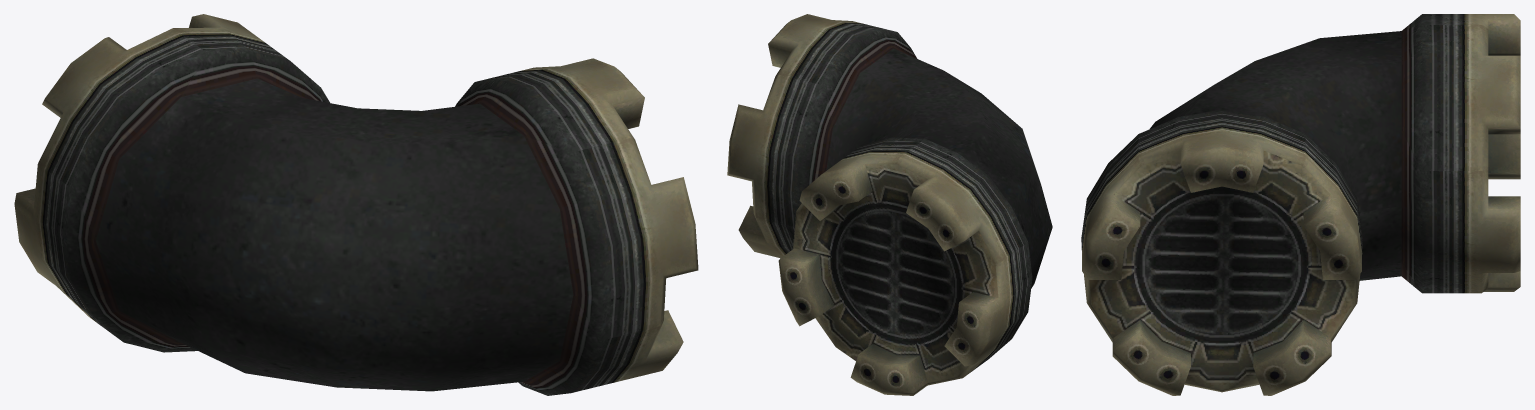
Rendered from tech_bend_short.dae.
3 renders of one model, left to right at view 1: azimuth 30°, elevation 25°; view 2: azimuth 150°, elevation 25°; view 3: azimuth 270°, elevation 25°, orthographic. The views are drawn at different scales.
Parts seen in each view (by area): view 1: polySurface790; view 2: polySurface790; view 3: polySurface790.
Boxes of the visible parts, bbox=[...] form: polySurface790: bbox=[14, 14, 698, 395]; polySurface790: bbox=[727, 14, 1052, 395]; polySurface790: bbox=[1081, 14, 1520, 395].
Bounding box in the file's own units: 0.7778 × 0.5035 × 0.7778.
1 material, 1 textured.
